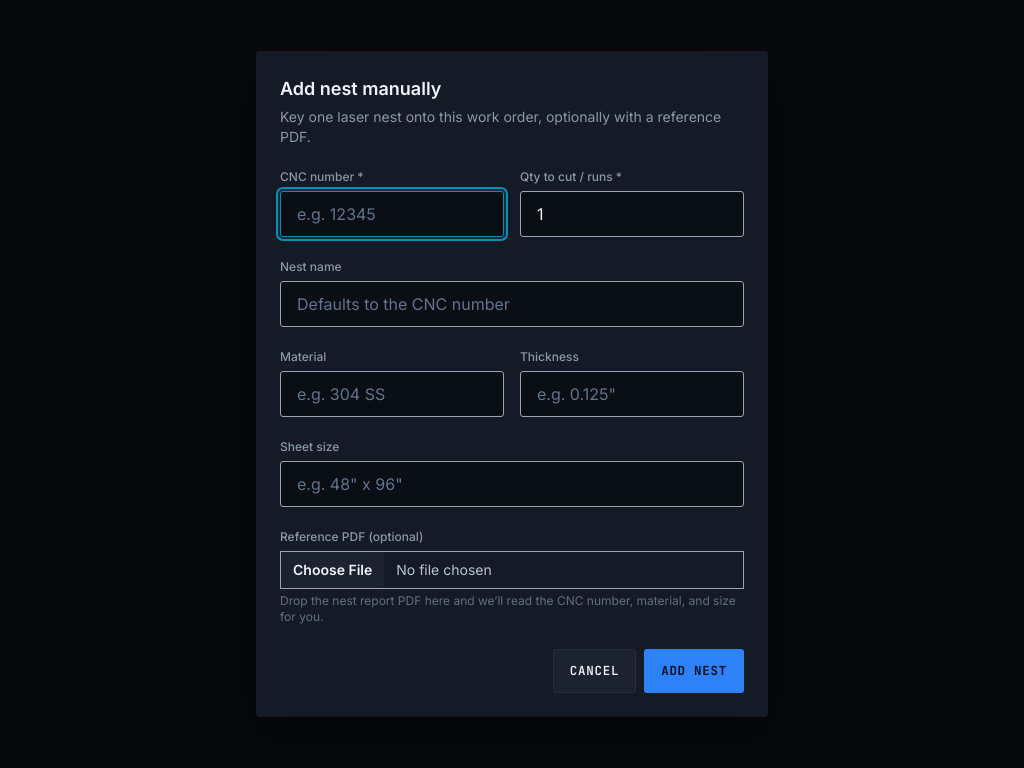
Test: LaserNestManualModal › blocks submit when cnc_number is empty
Replace the text in the number field labelled "Qty to cut / runs *" with "3" at (632, 214), box [520, 191, 744, 237]
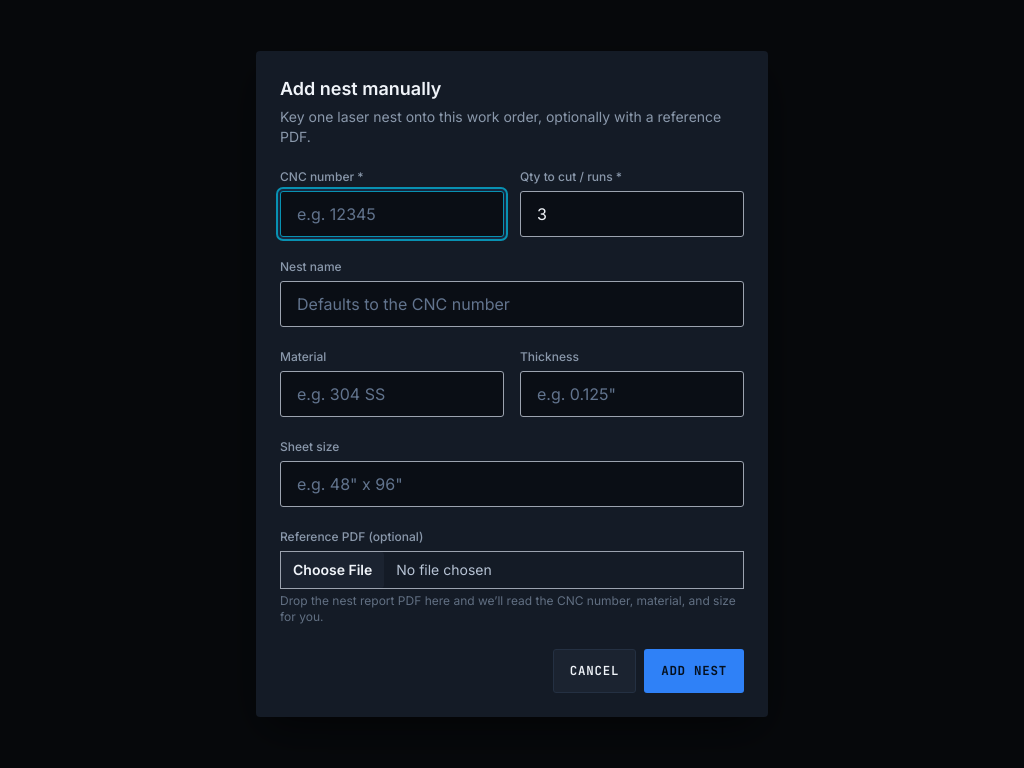
Click the button "Add nest".
click(694, 671)  # box [644, 649, 744, 693]
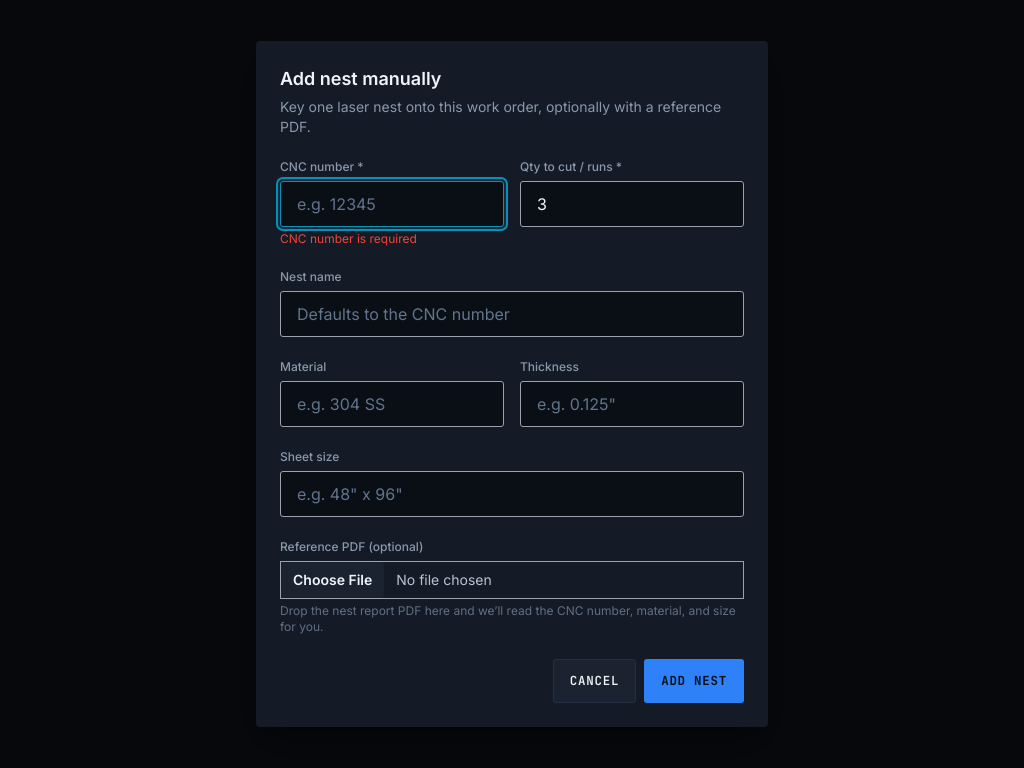
expect the text "CNC number is required" is shown: met, box [280, 231, 417, 246]
